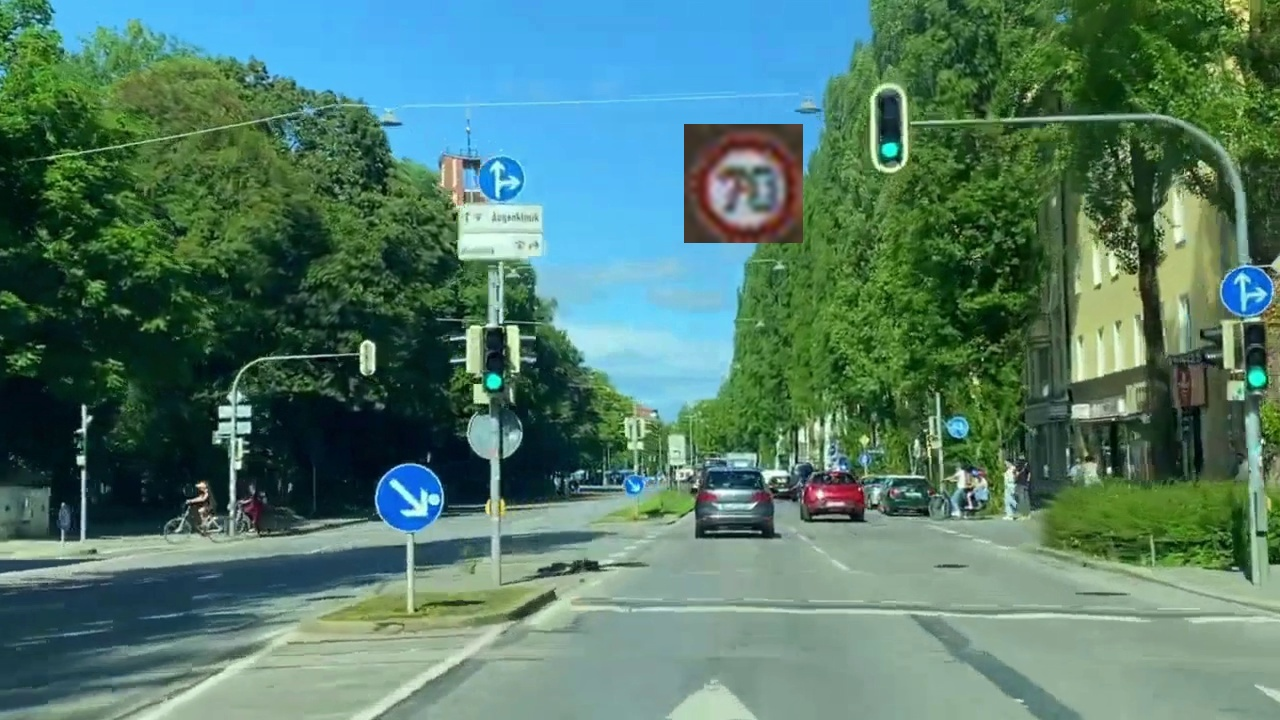Speed 70: (684, 124, 803, 243)
